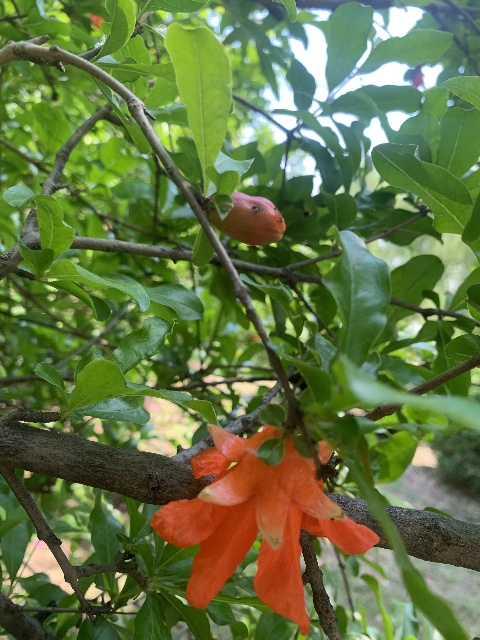bud: (209, 191, 285, 245)
flower: (151, 421, 380, 635)
